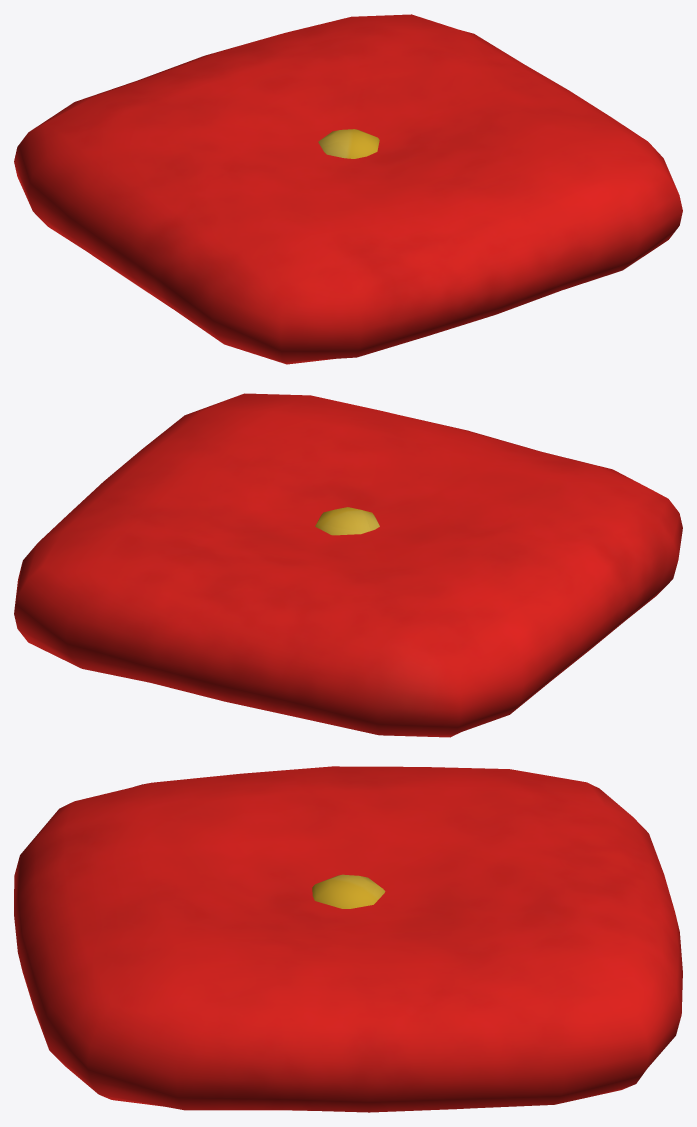
The model's file is Almofada.fbx.
3 views of the same model, one above another, from view 1: azimuth 30°, elevation 25°; view 2: azimuth 150°, elevation 25°; view 3: azimuth 270°, elevation 25° (orthographic). The views are drawn at different scales.
Parts seen in each view (by area): view 1: Almofada; view 2: Almofada; view 3: Almofada.
Part boxes in pixels (x1,y1,x2,y2): Almofada: (14,14,682,364); Almofada: (14,393,682,737); Almofada: (14,766,682,1112).
Size of the model in its own units: 75.42 by 17.44 by 75.79.
